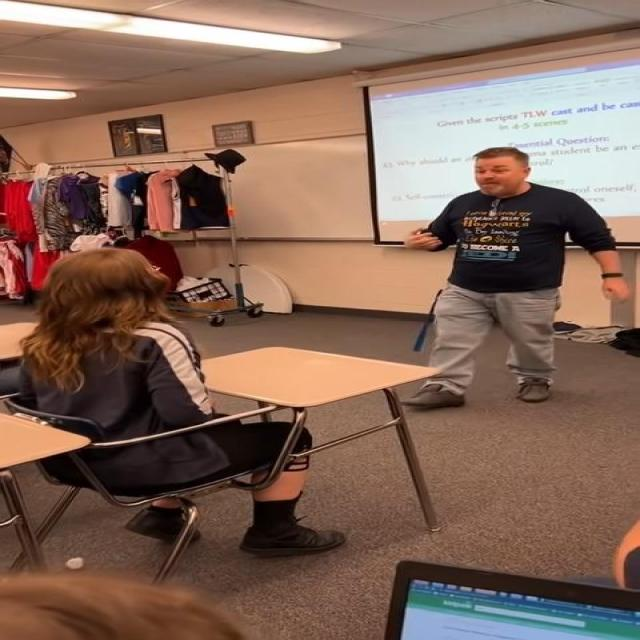NO-Mask: (477, 154, 527, 195)
